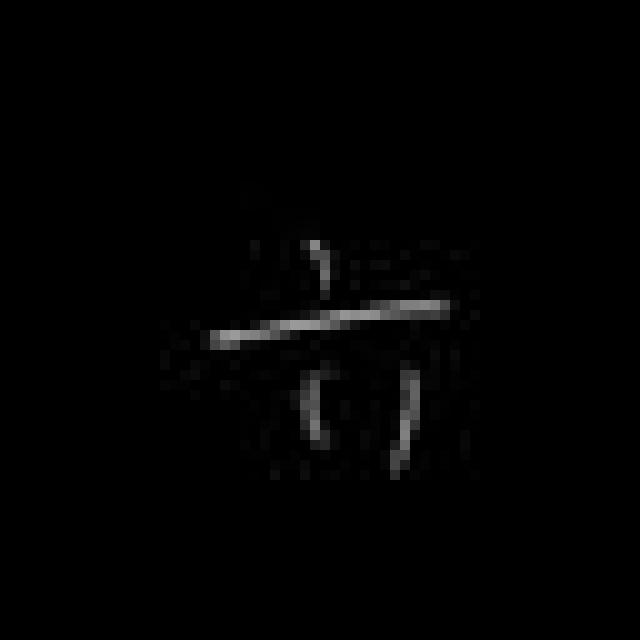6 -six-: (198, 231, 457, 485)
